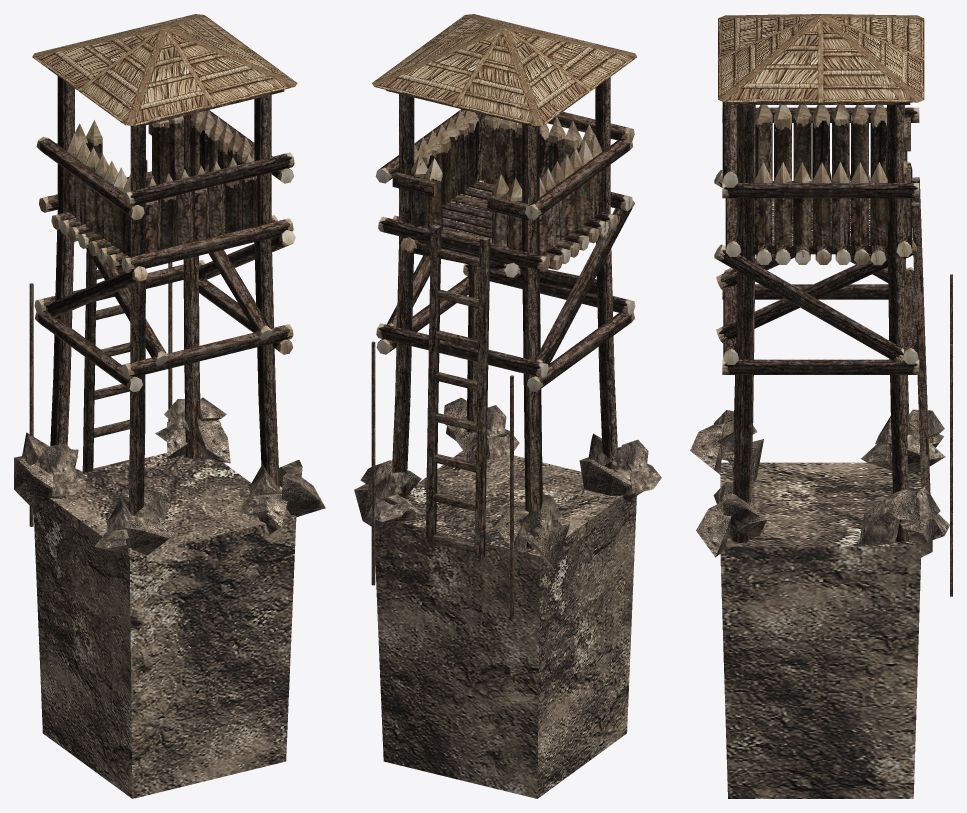
File: s_kushites_outpost.glb
3 views of the same model, side by side, from view 1: azimuth 30°, elevation 25°; view 2: azimuth 150°, elevation 25°; view 3: azimuth 270°, elevation 25° (orthographic). The views are drawn at different scales.
Visible parts, largest first — view 1: s_kushites_outpost_part0; view 2: s_kushites_outpost_part0; view 3: s_kushites_outpost_part0.
Boxes of the visible parts, box(x1,y1,x2,y2) form: s_kushites_outpost_part0: box(14, 14, 325, 798); s_kushites_outpost_part0: box(354, 14, 661, 798); s_kushites_outpost_part0: box(690, 14, 952, 798).
Size of the model in its own units: 2 by 6.24 by 2.
1 material, 1 textured.
